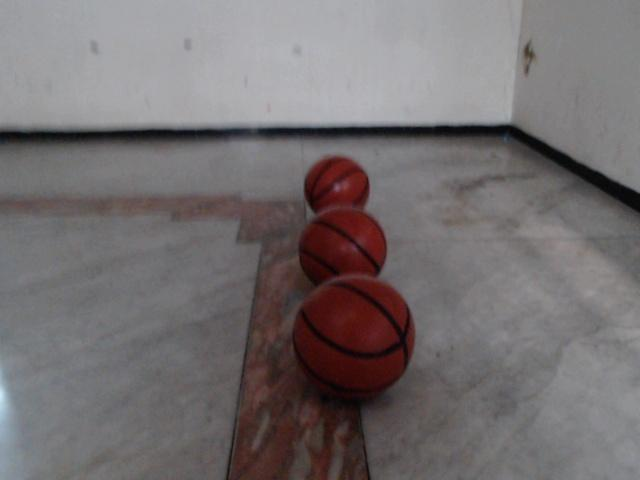Sports-Ball: (287, 278, 424, 395), (292, 202, 389, 288), (298, 150, 377, 217)
